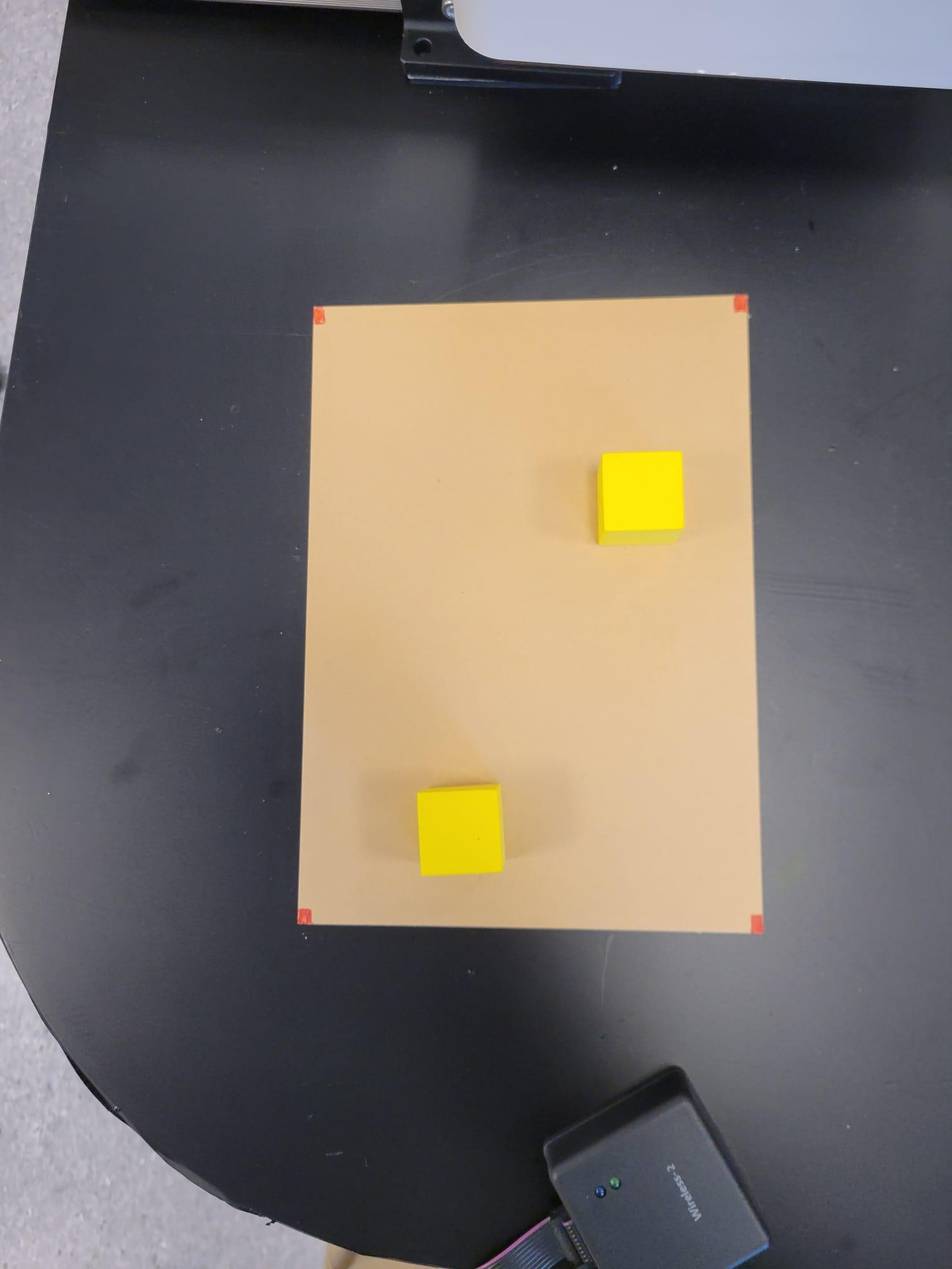cube: (417, 784, 507, 881), (600, 447, 686, 537)
